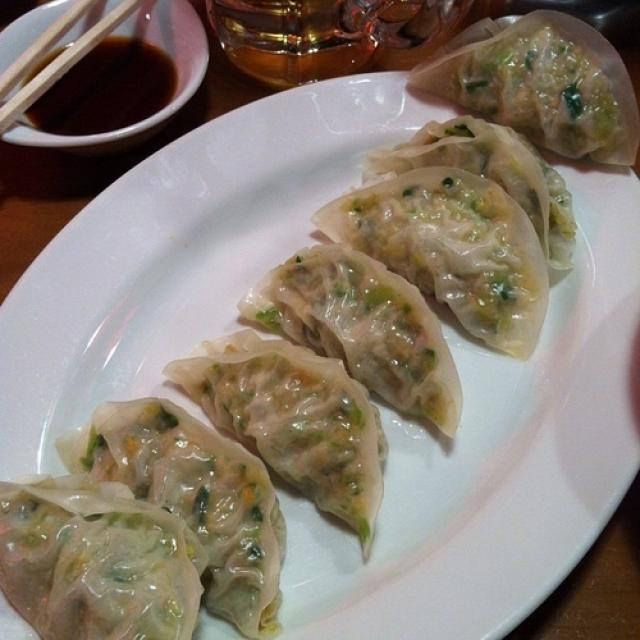带馅早点: (12, 32, 631, 626)
